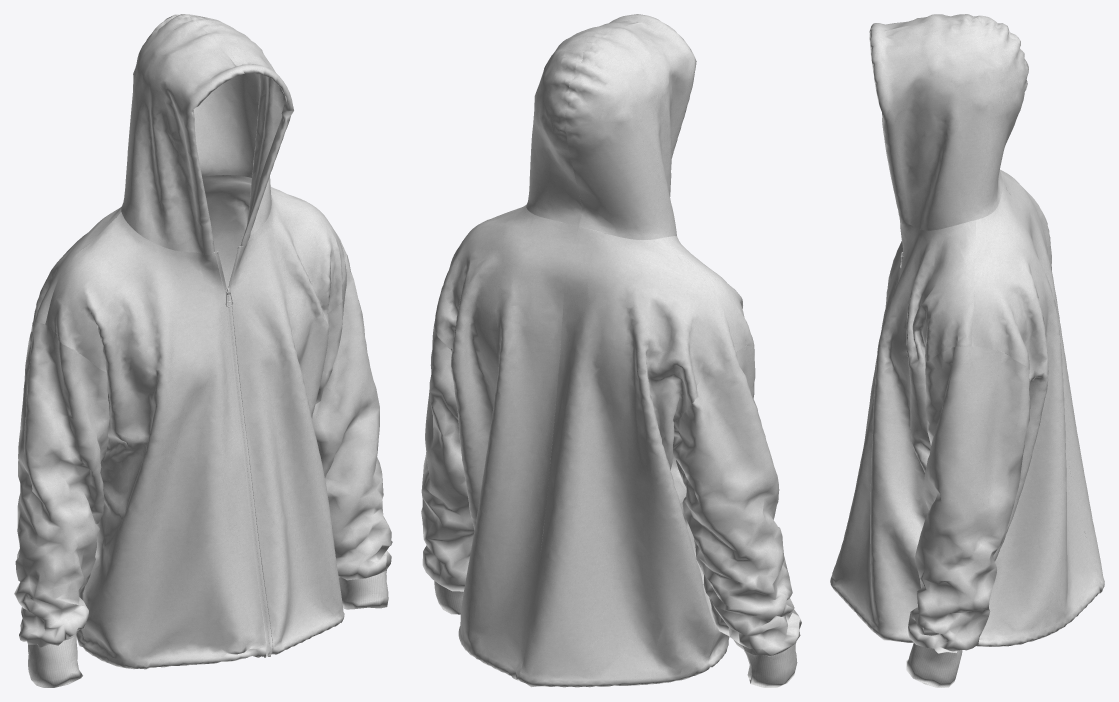
Rendered from hoodie.glb.
The picture shows the model from 3 angles, left to right: view 1: azimuth 30°, elevation 25°; view 2: azimuth 150°, elevation 25°; view 3: azimuth 270°, elevation 25°; orthographic projection. The views are drawn at different scales.
Parts seen in each view (by area): view 1: Cloth_1; view 2: Cloth_1; view 3: Cloth_1.
Part boxes in pixels (x1,y1,x2,y2): Cloth_1: (14, 14, 392, 687); Cloth_1: (421, 14, 801, 687); Cloth_1: (830, 14, 1104, 687).
Size of the model in its own units: 0.5339 by 0.8557 by 0.3588.
5 materials, 5 textured.
